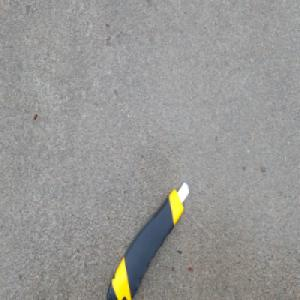Cutter: (103, 179, 190, 300)
